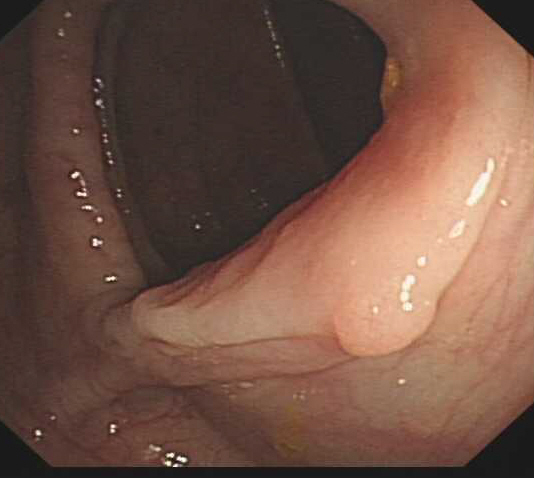others: (331, 286, 440, 359)
